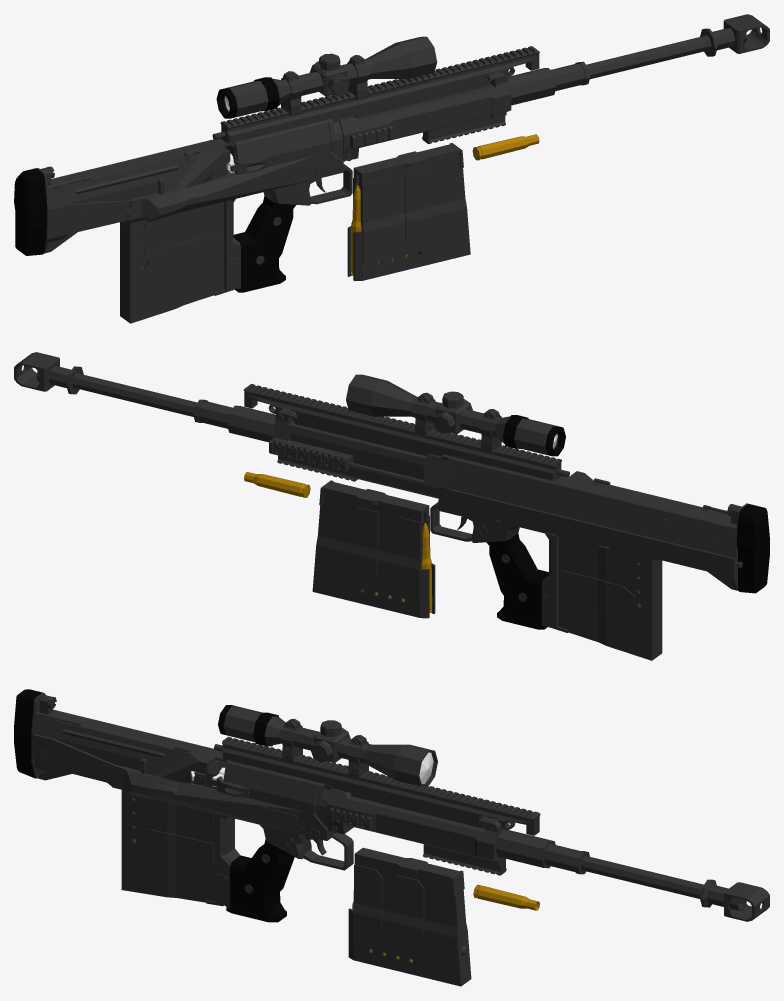
File: gepard_m6_lynx.glb
3 views of the same model, one above another, from view 1: azimuth 30°, elevation 25°; view 2: azimuth 150°, elevation 25°; view 3: azimuth 330°, elevation 25° (orthographic).
Parts seen in each view (by area): view 1: gun_3, 12799 gm6 5rnd mag_1, 12799 gm6 5rnd mag empty_2, hawke endurance _11, shutter_10, barrel_5, muzzle_9, Object_4; view 2: gun_3, 12799 gm6 5rnd mag_1, 12799 gm6 5rnd mag empty_2, hawke endurance _11, barrel_5, muzzle_9, Object_4, shutter_10; view 3: gun_3, 12799 gm6 5rnd mag_1, 12799 gm6 5rnd mag empty_2, hawke endurance _11, shutter_10, muzzle_9, barrel_5, Object_4.
Boxes of the visible parts, x1,y1,x2,y2 form: gun_3: (14, 46, 590, 292); 12799 gm6 5rnd mag_1: (347, 143, 470, 280); 12799 gm6 5rnd mag empty_2: (120, 199, 228, 323); hawke endurance _11: (216, 36, 437, 118); shutter_10: (47, 145, 230, 207); barrel_5: (225, 35, 711, 162); muzzle_9: (700, 14, 769, 56); Object_4: (472, 134, 539, 160); gun_3: (193, 384, 769, 629); 12799 gm6 5rnd mag_1: (312, 480, 435, 618); 12799 gm6 5rnd mag empty_2: (554, 537, 662, 660); hawke endurance _11: (346, 374, 565, 456); barrel_5: (72, 373, 197, 416); muzzle_9: (14, 352, 83, 394); Object_4: (244, 472, 310, 497); shutter_10: (569, 471, 730, 516); gun_3: (14, 689, 589, 922); 12799 gm6 5rnd mag_1: (348, 847, 471, 986); 12799 gm6 5rnd mag empty_2: (121, 790, 222, 906); hawke endurance _11: (218, 705, 437, 786); shutter_10: (33, 712, 214, 783); muzzle_9: (700, 879, 769, 921); barrel_5: (580, 856, 703, 898); Object_4: (473, 884, 539, 910).
Bounding box in the file's own units: 12.09 × 3.52 × 0.7373.
